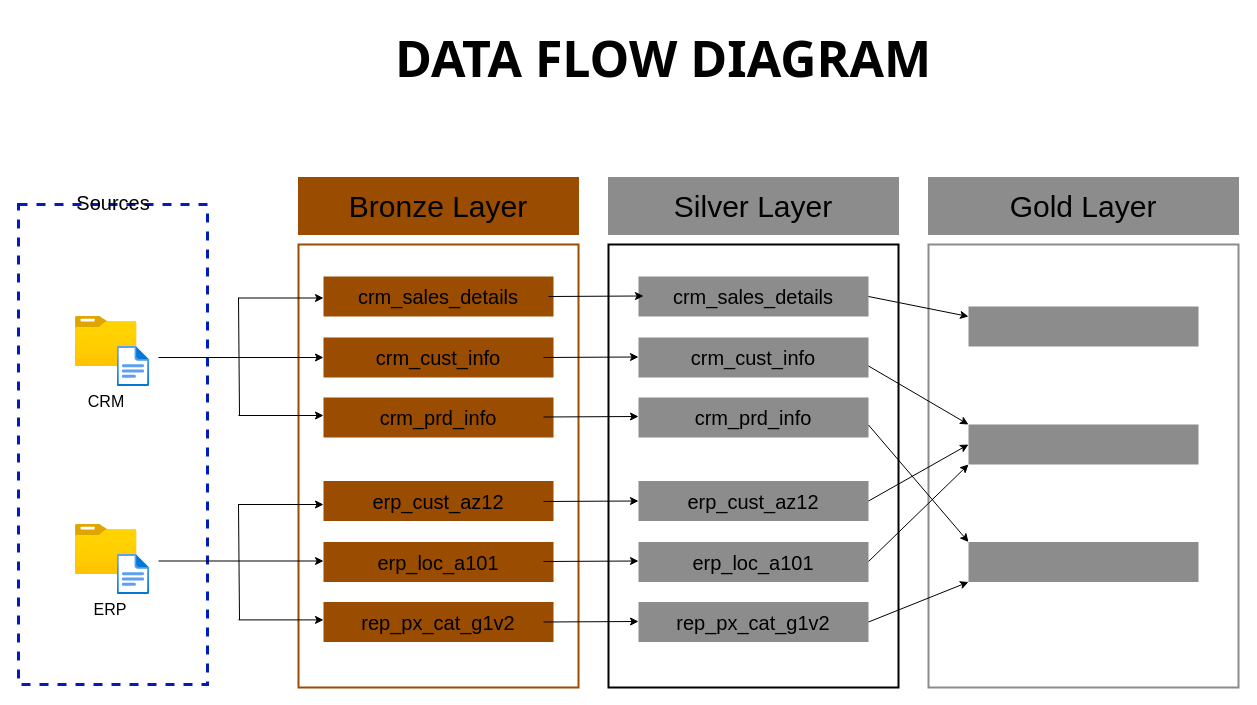
Image size: 1257x705. Some labels were removed from this diagram. Here are the shapes that lost their labels. From the top down, the centre of each, then its label:
pixel 1083 326: fact_sales
pixel 1083 444: dim_customers
pixel 1083 562: dim_products
